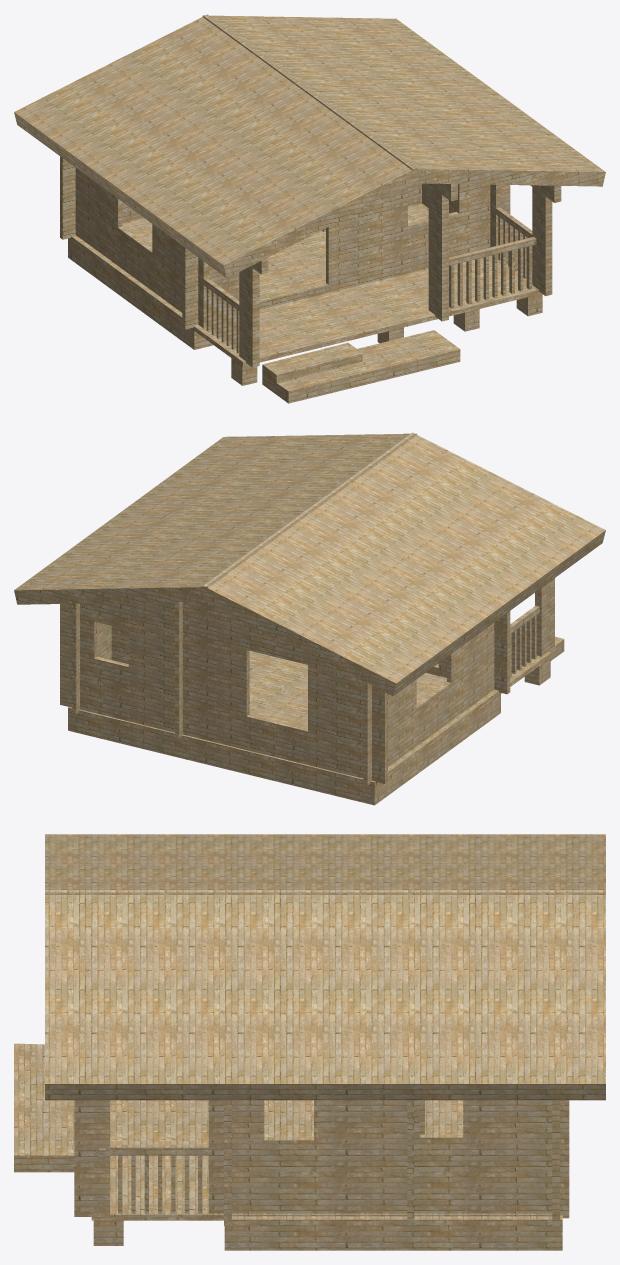
3 renders of one model, top to bottom at view 1: azimuth 30°, elevation 25°; view 2: azimuth 150°, elevation 25°; view 3: azimuth 270°, elevation 25°, orthographic. The views are drawn at different scales.
Parts seen in each view (by area): view 1: koya2; view 2: koya2; view 3: koya2.
Part boxes in pixels (x1,y1,x2,y2): koya2: (14,14,605,403); koya2: (14,432,605,805); koya2: (14,834,605,1250).
Size of the model in its own units: 885 by 428 by 886.
Materials: 1 (1 with a texture image).
